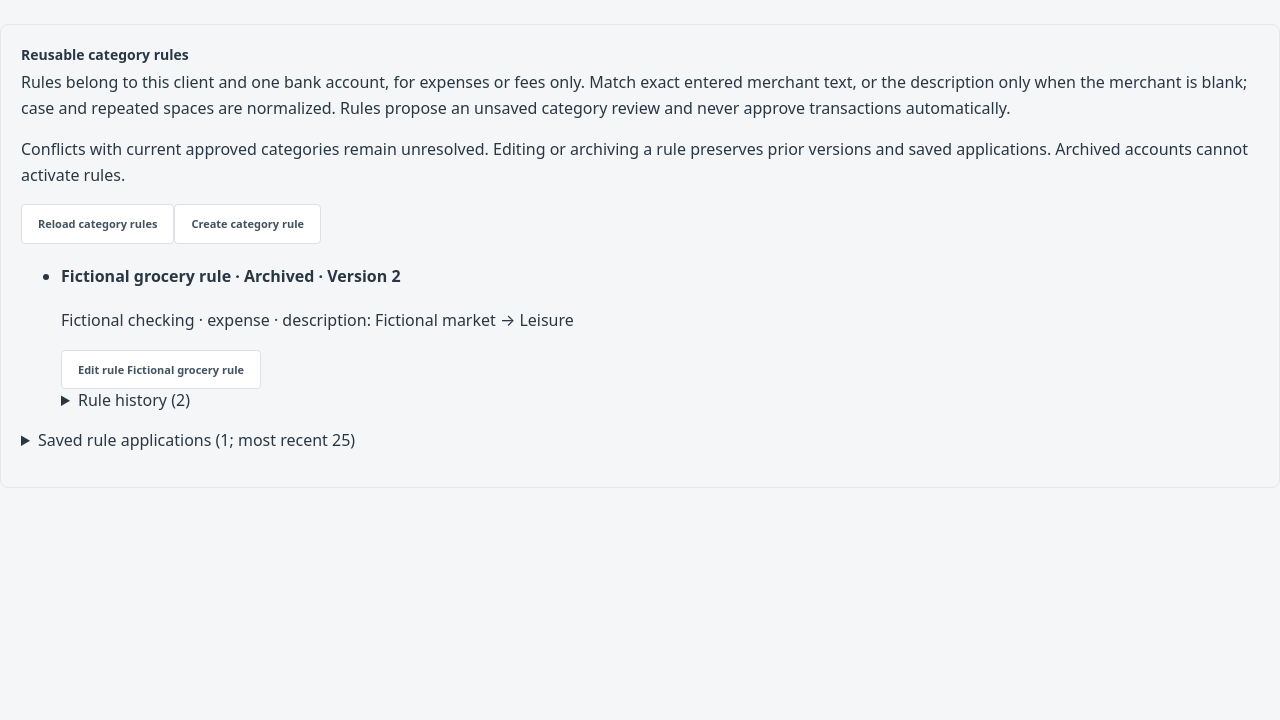
Test: shows the original applied version even when the current rule was edited and archived
Check: the heading "Fictional grocery rule · Archived · Version 2" is shown, box [61,265,401,287]
What coordinates should you click on to do the following:
click the heading "Saved rule applications (1; most recent 25)"
I would click on:
 (196, 440)
Its box is [38,429,355,451].
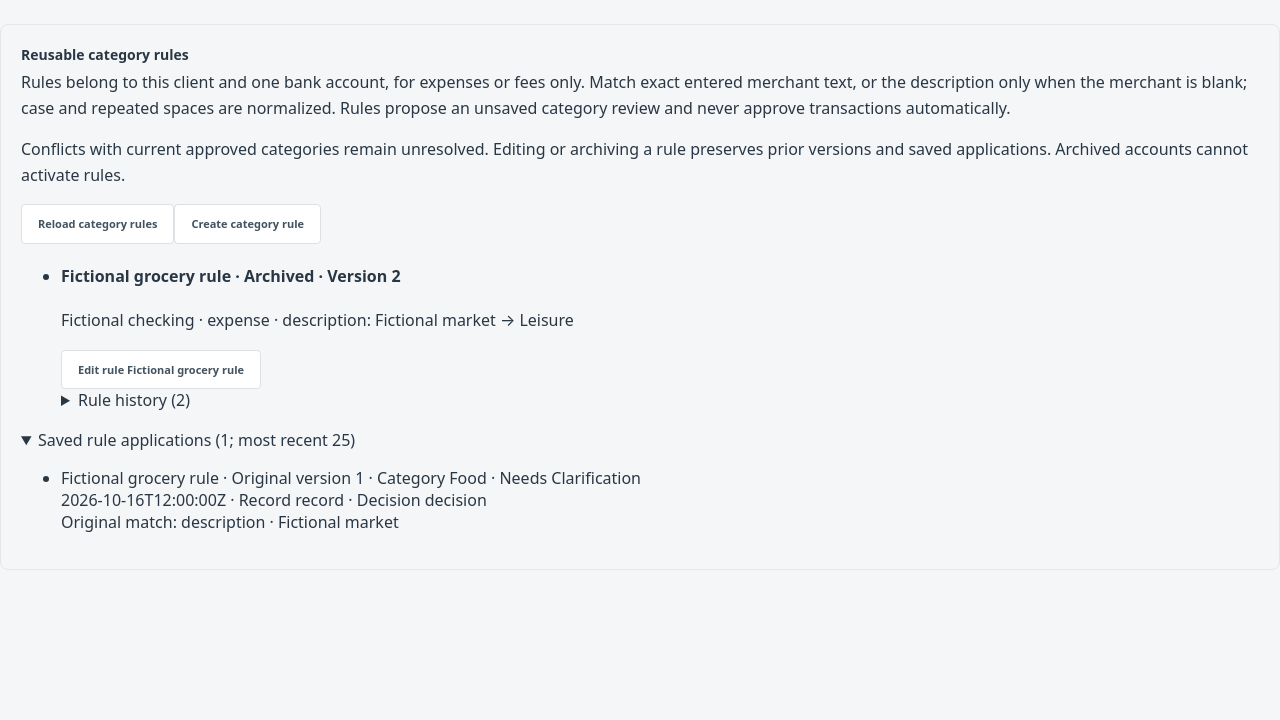
Check: the list item "Original version 1" does not show "Leisure", box [61,467,641,533]
Check: the list item "Original version 1" shows "Category Food", box [61,467,641,533]
